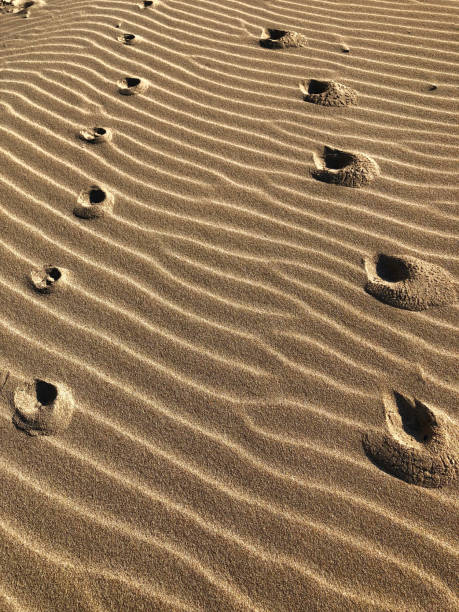animal_foot_print: (362, 391, 458, 487), (364, 253, 456, 310), (12, 378, 74, 435), (312, 146, 379, 187), (299, 79, 356, 105), (73, 185, 113, 218), (29, 265, 63, 293), (259, 28, 306, 48), (117, 76, 147, 95), (78, 127, 111, 143)
